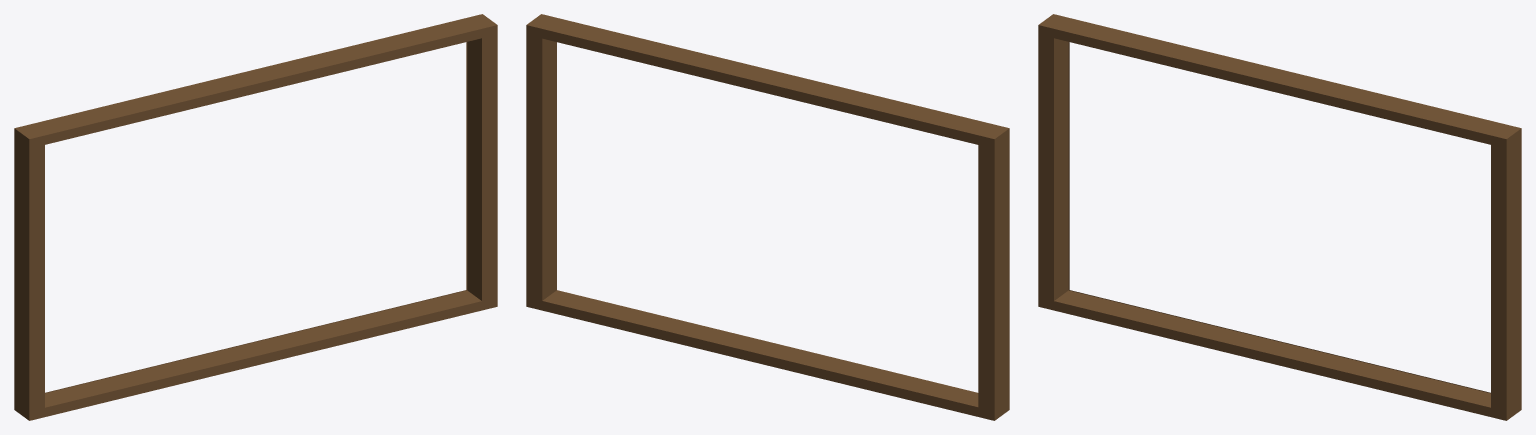
Rendered from WindowFrame.fbx.
3 views of the same model, side by side, from view 1: azimuth 30°, elevation 25°; view 2: azimuth 150°, elevation 25°; view 3: azimuth 330°, elevation 25° (orthographic).
Visible parts, largest first — view 1: WindowFrame; view 2: WindowFrame; view 3: WindowFrame.
Part boxes in pixels (box(x1,y1,x2,y2)): WindowFrame: box(14, 14, 497, 420); WindowFrame: box(526, 14, 1009, 420); WindowFrame: box(1038, 14, 1521, 420).
Size of the model in its own units: 2105 by 1211 by 117.
